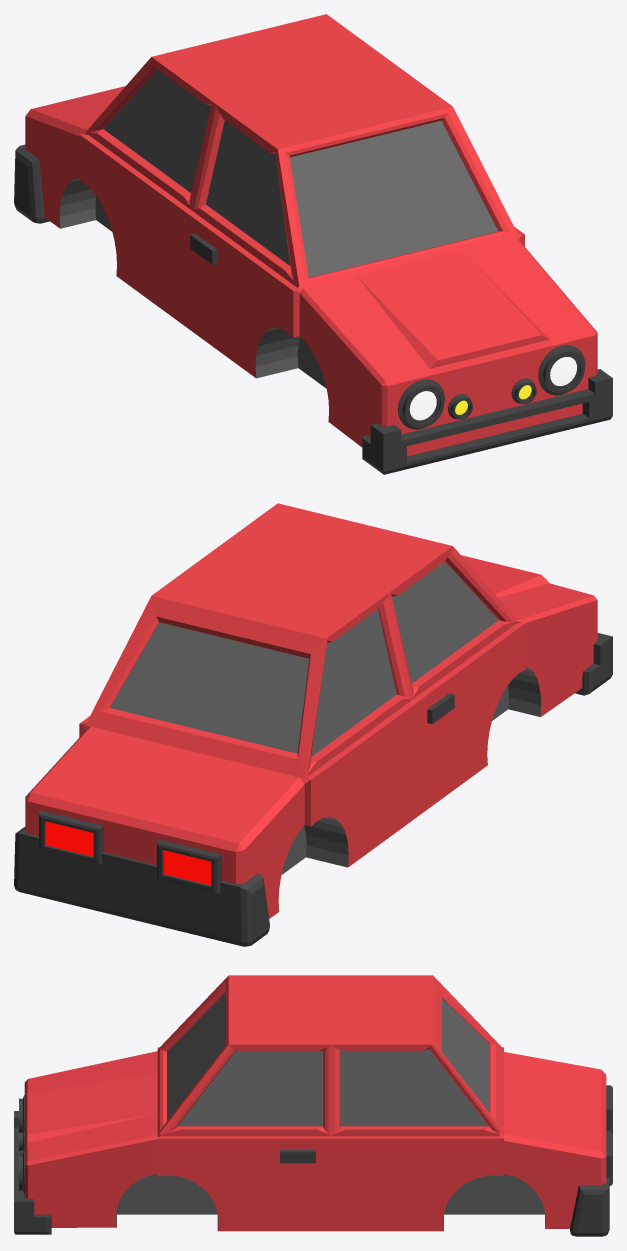
Rendered from CarModel1_body.glb.
3 renders of one model, top to bottom at view 1: azimuth 30°, elevation 25°; view 2: azimuth 150°, elevation 25°; view 3: azimuth 270°, elevation 25°, orthographic. The views are drawn at different scales.
Visible parts, largest first — view 1: CarModel1.001, Object.009, Cylinder.002, Cube.001, Ligths.001; view 2: CarModel1.001, Cube.001, Cube.002, Object.009; view 3: CarModel1.001, Cube.001, Object.009, Cube.002, Cylinder.002, Object.008.
Part boxes in pixels (box(x1,y1,x2,y2)): CarModel1.001: box(25, 14, 597, 456); Object.009: box(362, 369, 612, 474); Cylinder.002: box(398, 345, 585, 429); Cube.001: box(14, 144, 49, 223); Ligths.001: box(409, 357, 577, 420); CarModel1.001: box(25, 503, 597, 918); Cube.001: box(14, 826, 269, 946); Cube.002: box(39, 810, 221, 893); Object.009: box(575, 633, 612, 695); CarModel1.001: box(24, 975, 606, 1231); Cube.001: box(570, 1131, 609, 1236); Object.009: box(14, 1111, 51, 1234); Cube.002: box(606, 1085, 612, 1185); Cylinder.002: box(19, 1095, 24, 1194); Object.008: box(280, 1150, 315, 1163).
Bounding box in the file's own units: 2.21 × 1.97 × 5.86.
